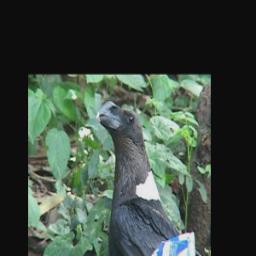Crow: (94, 102, 189, 256)
